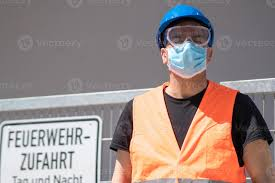Helmet: (155, 5, 217, 32)
Jacket: (117, 85, 242, 183)
Mask: (161, 42, 211, 75)
